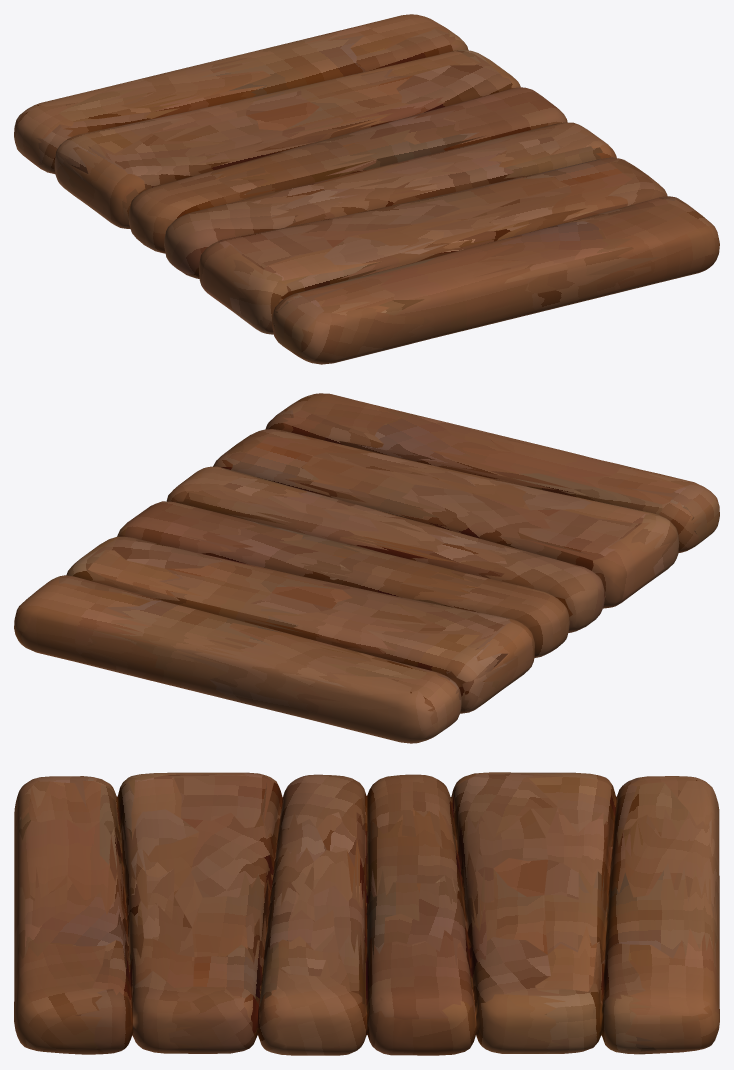
The model's file is JP_사물_s2_floor_engawa.glb.
3 views of the same model, one above another, from view 1: azimuth 30°, elevation 25°; view 2: azimuth 150°, elevation 25°; view 3: azimuth 270°, elevation 25° (orthographic). The views are drawn at different scales.
Parts seen in each view (by area): view 1: tripo_node_ba4a09b8-9a87-457c-97e6-4811ec5badd9; view 2: tripo_node_ba4a09b8-9a87-457c-97e6-4811ec5badd9; view 3: tripo_node_ba4a09b8-9a87-457c-97e6-4811ec5badd9.
Boxes of the visible parts, <box> form: tripo_node_ba4a09b8-9a87-457c-97e6-4811ec5badd9: <box>14,14,719,364</box>; tripo_node_ba4a09b8-9a87-457c-97e6-4811ec5badd9: <box>14,393,719,743</box>; tripo_node_ba4a09b8-9a87-457c-97e6-4811ec5badd9: <box>14,772,719,1055</box>.
Size of the model in its own units: 0.8035 by 0.1022 by 1.
1 material, 1 textured.
